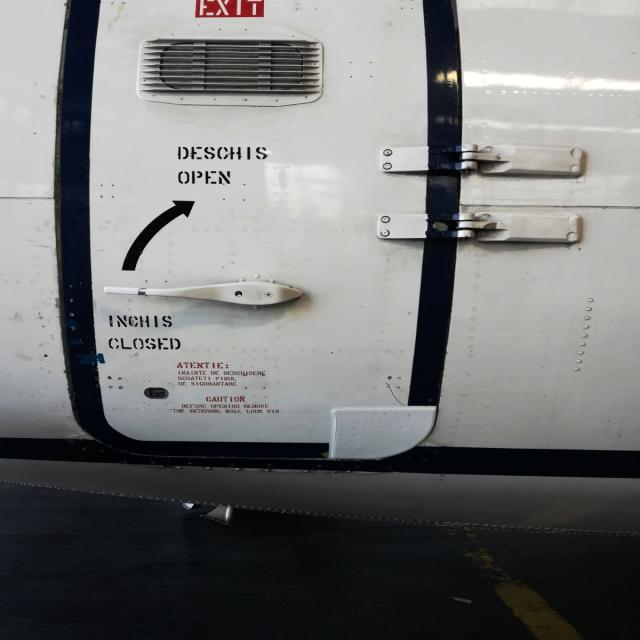crack: (382, 375, 417, 410)
